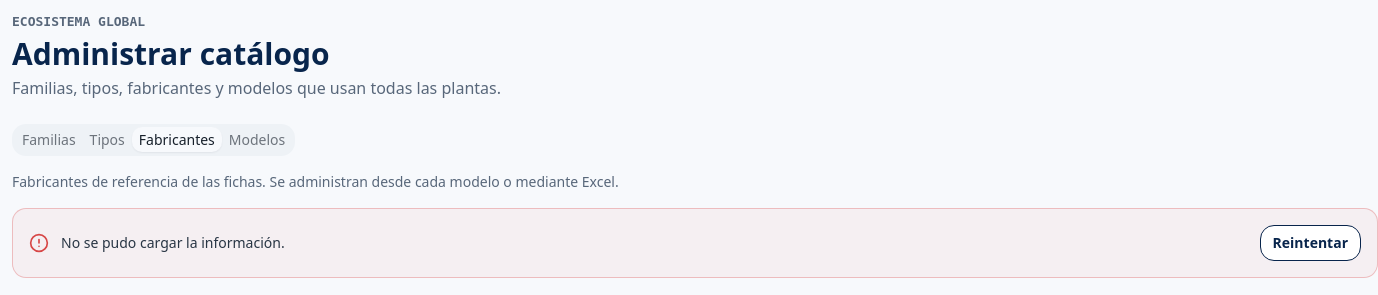
Administrar catálogo › tipos y fabricantes › permite reintentar la consulta de referencias si falla
Expected: the message "No se pudo cargar la información. Reintentar" is shown, [12,208,1377,278]
What coordinates should you click on to do the following:
click the button "Reintentar"
I would click on:
 (1310, 242)
Its box is [1260,224,1361,260].
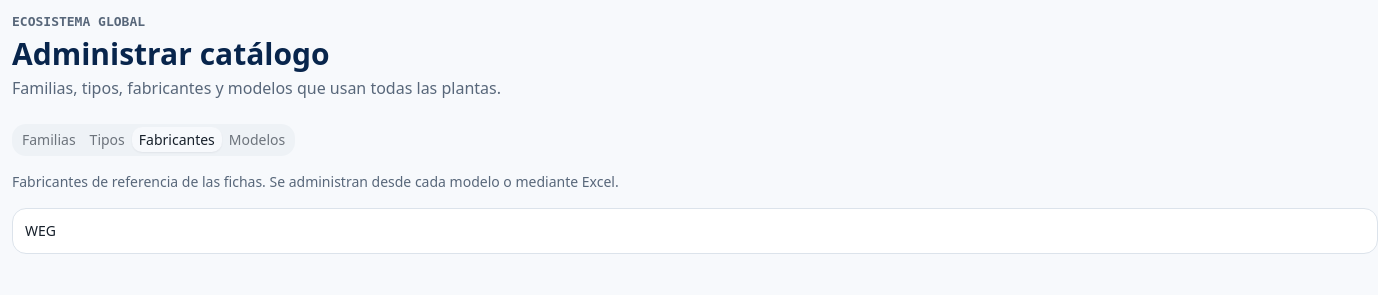
Now the list item "WEG" is shown, box [25,220,56,240]
